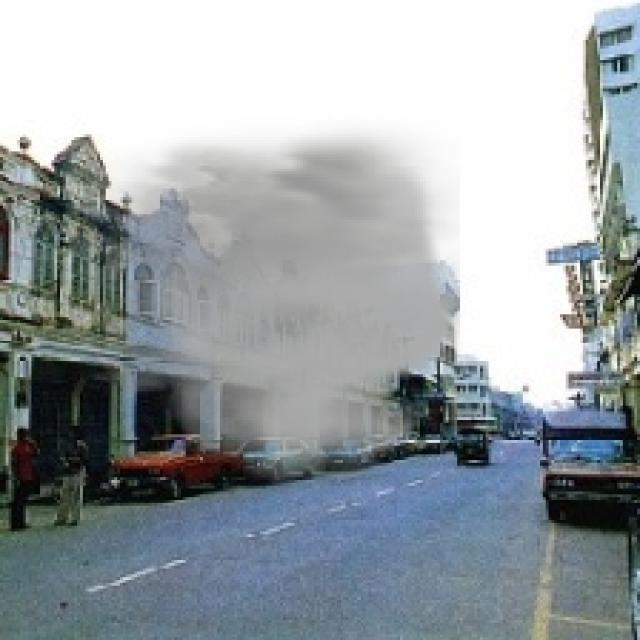Smoke: (51, 117, 460, 486)
